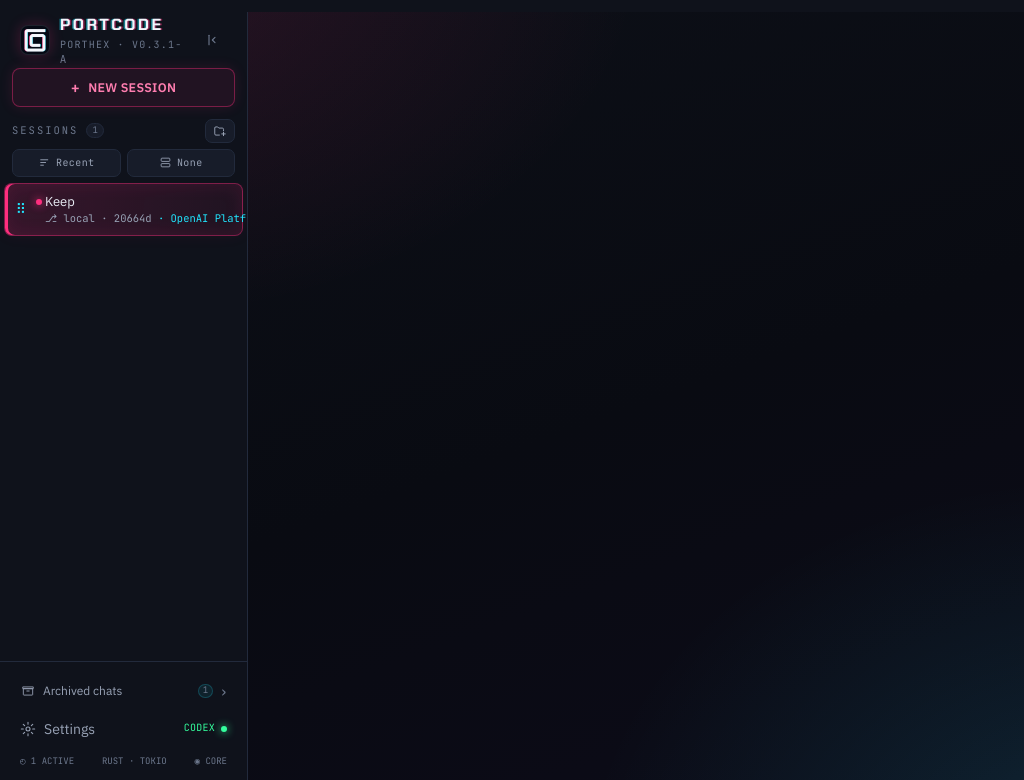
Test: Sidebar › gives archived delete buttons a screen-reader label naming the target
The image size is (1024, 780).
Click the button with aria-label "View archived sessions". click: point(124, 690)
box: x1=12 y1=674 x2=235 y2=708
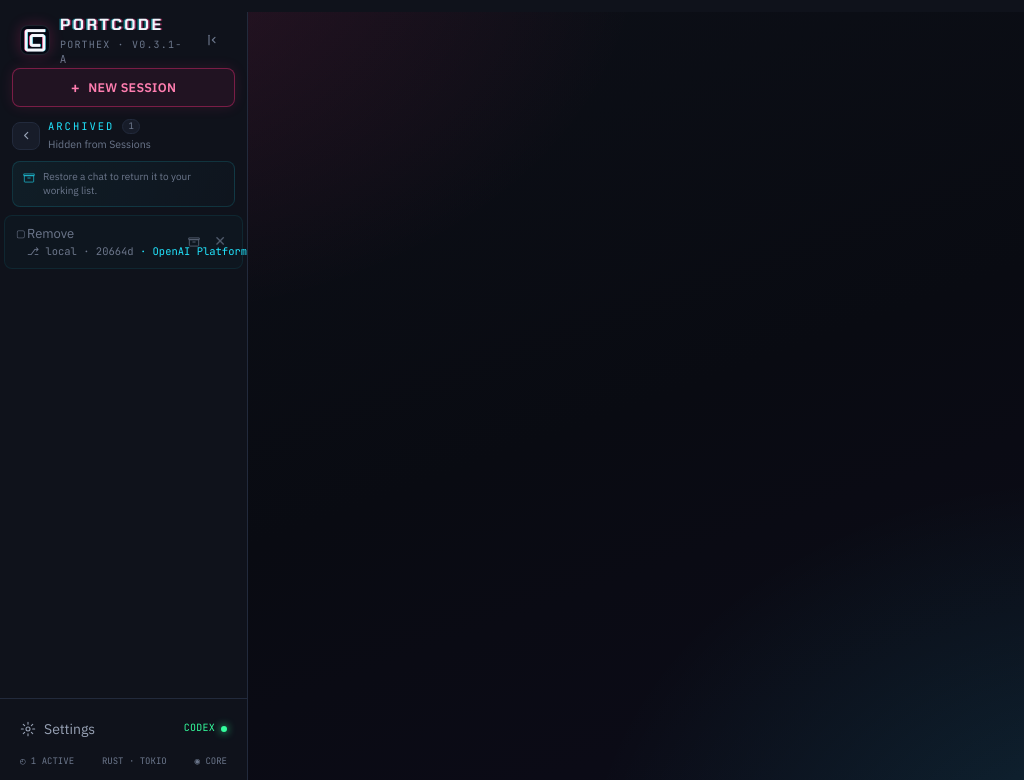
Expected: the button "Delete session: Keep" is gone
Expected: the button named "Delete session: Remove" is shown, x1=208 y1=230 x2=232 y2=254
